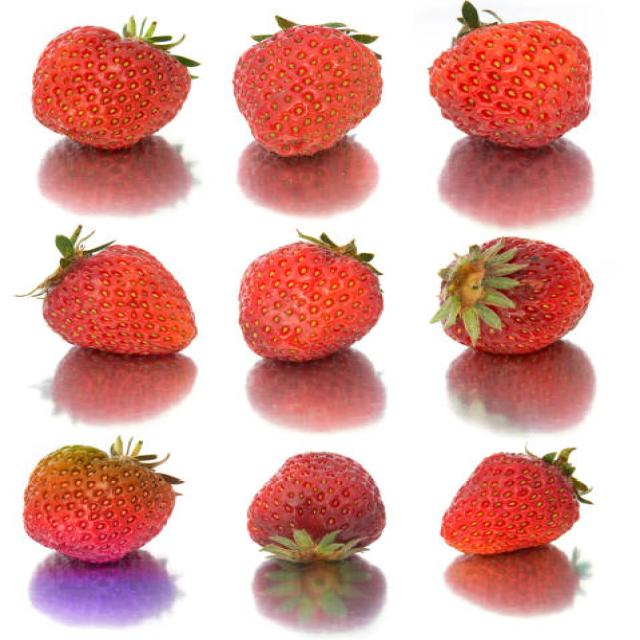Healthy Fruit: (429, 19, 595, 147), (33, 24, 191, 152), (231, 26, 385, 157), (40, 244, 199, 357), (24, 445, 173, 564), (443, 237, 591, 353), (239, 243, 380, 362), (438, 451, 580, 557), (248, 449, 386, 555)
